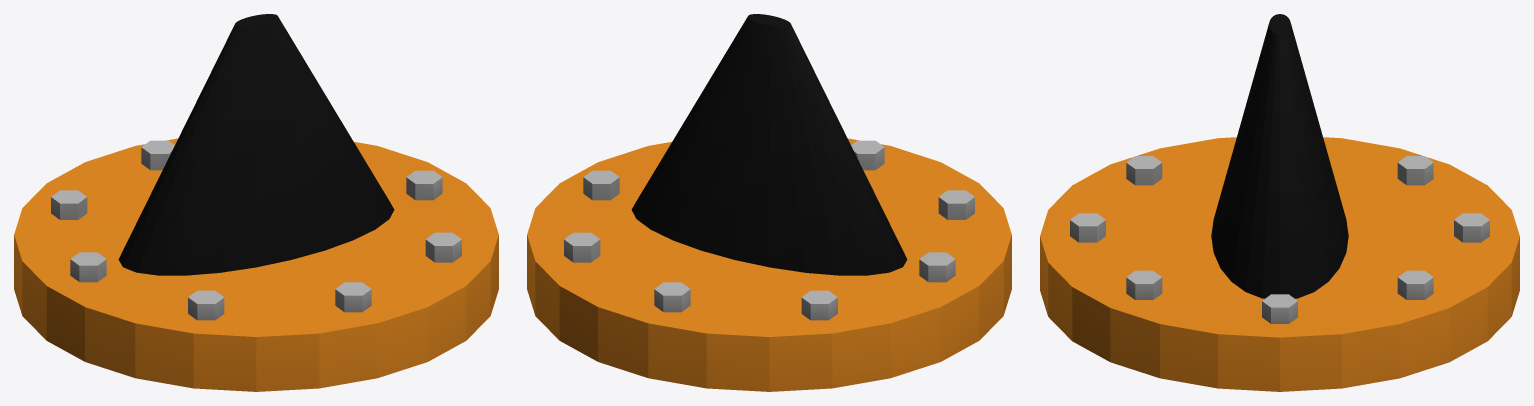
The model's file is check_valve.glb.
The picture shows the model from 3 angles, left to right: view 1: azimuth 30°, elevation 25°; view 2: azimuth 150°, elevation 25°; view 3: azimuth 270°, elevation 25°; orthographic projection.
Visible parts, largest first — view 1: check_valve; view 2: check_valve; view 3: check_valve.
Part boxes in pixels (left/top/right/bottom): check_valve: left=14, top=14, right=498, bottom=391; check_valve: left=527, top=14, right=1011, bottom=391; check_valve: left=1040, top=14, right=1519, bottom=391.
Bounding box in the file's own units: 0.4 × 0.245 × 0.4.
